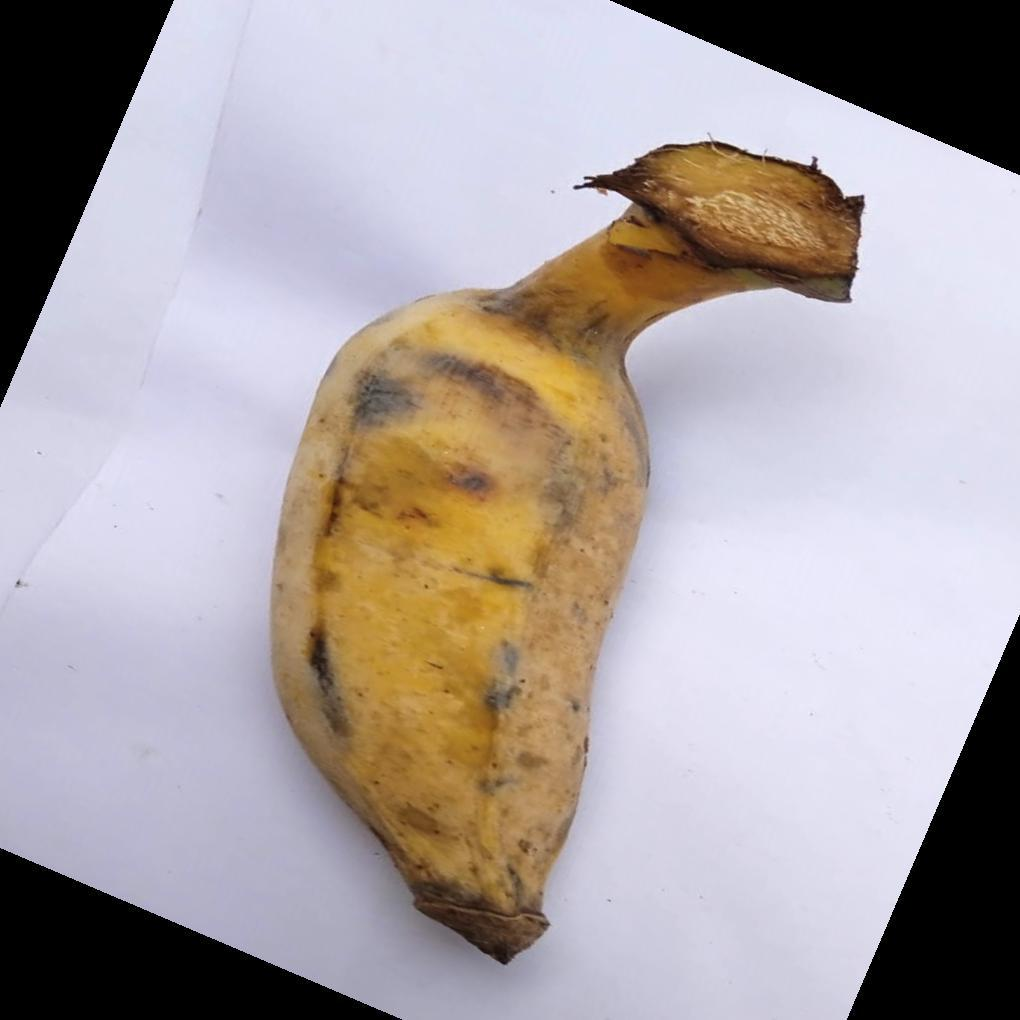Banana Ripe: (262, 139, 857, 979)
